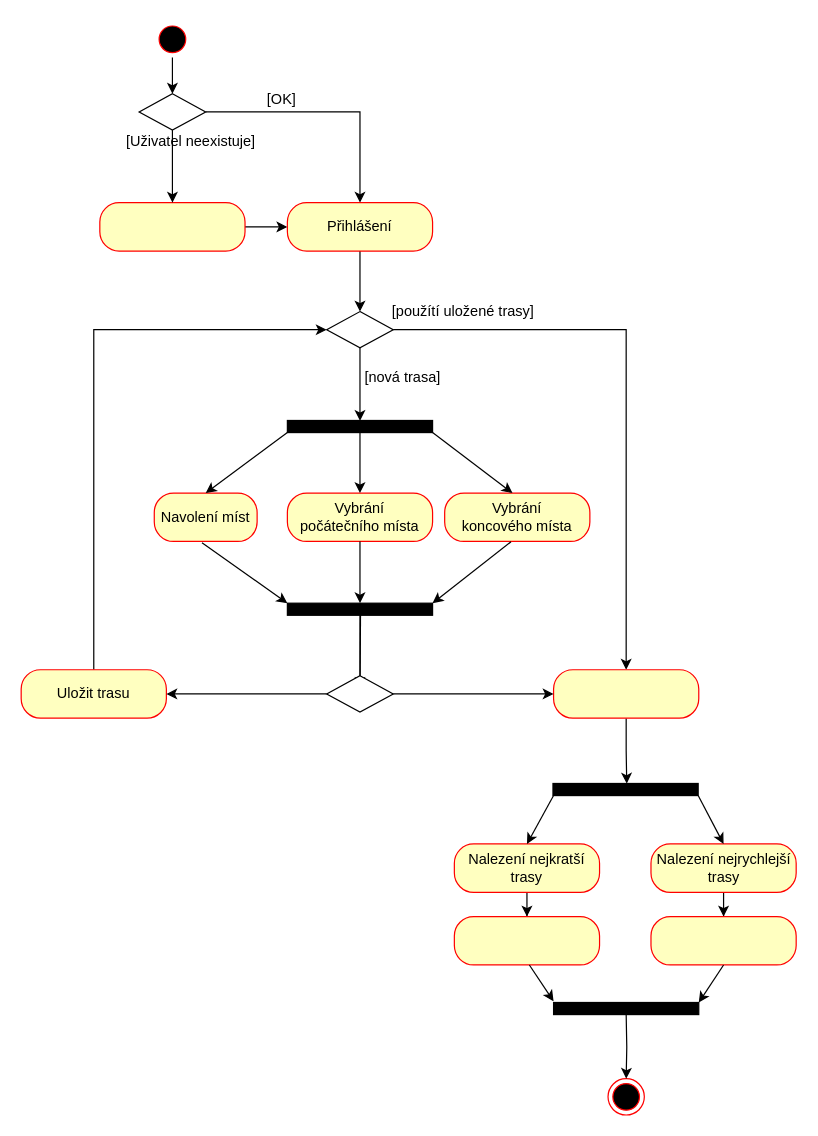
Some shapes in this 818 by 1136 pixel diagram are drawn without their labels. Each missing label, with the centre of its shape:
"Registrace" goes at point (172, 226).
"Spočítej délku trasy" goes at point (526, 940).
"Spočítej čas trasy" goes at point (723, 940).
"Začni výpočet" goes at point (625, 693).
